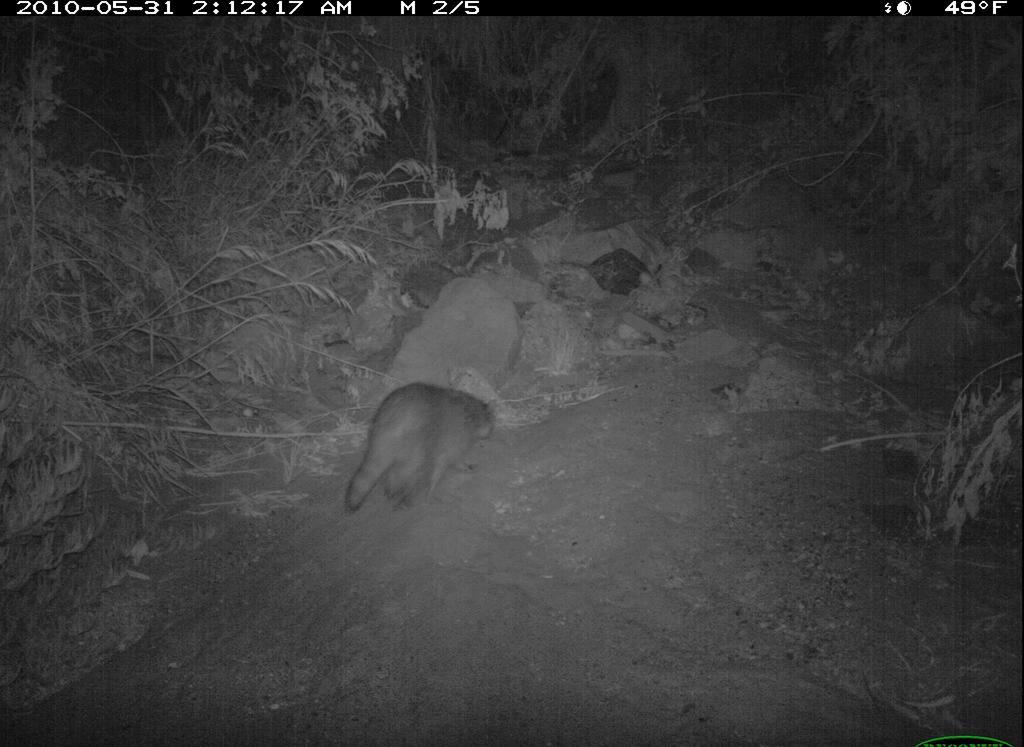raccoon: (335, 367, 514, 520)
